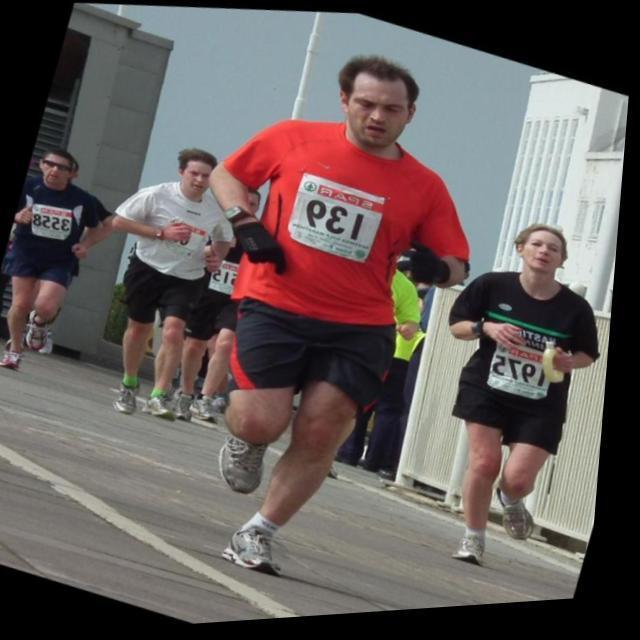dorsal: (257, 147, 410, 282), (470, 318, 577, 413), (17, 190, 84, 250)
